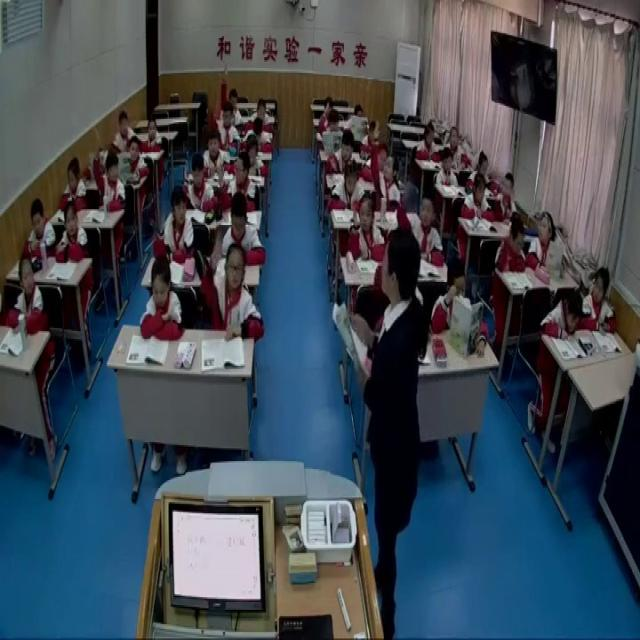distracted: (582, 266, 618, 336), (527, 216, 562, 279), (490, 172, 521, 224)
focused: (433, 259, 488, 351), (139, 255, 182, 343), (7, 256, 44, 336), (222, 198, 266, 262), (541, 290, 589, 346), (494, 212, 530, 278), (24, 198, 57, 264), (56, 200, 90, 260), (458, 172, 495, 224), (329, 163, 366, 213), (58, 160, 88, 217), (322, 131, 358, 176), (443, 124, 474, 173), (118, 137, 150, 181), (203, 128, 229, 182), (247, 118, 276, 158), (467, 148, 492, 192), (245, 133, 268, 179), (436, 146, 459, 189), (142, 115, 166, 154), (249, 102, 278, 134), (114, 112, 136, 151), (417, 121, 438, 159)
raising_hand: (197, 239, 266, 342), (395, 181, 445, 267), (153, 188, 196, 266), (371, 117, 404, 210), (348, 191, 388, 262), (92, 135, 127, 213), (218, 148, 258, 215), (182, 151, 214, 212), (317, 98, 348, 152), (210, 100, 241, 149), (220, 62, 240, 121)
